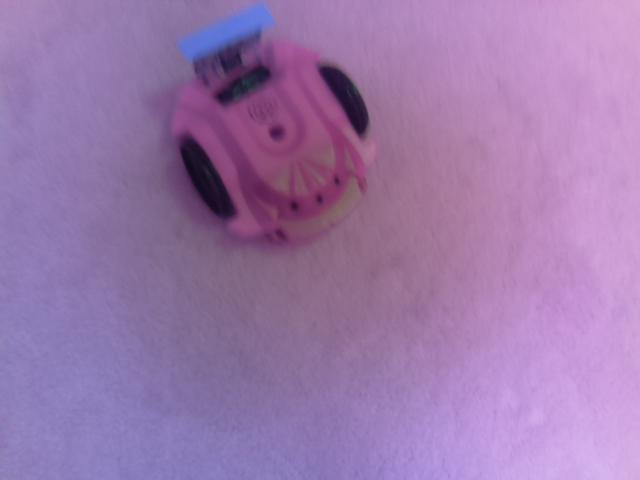board: (174, 3, 276, 68)
chassis: (166, 1, 377, 254)
